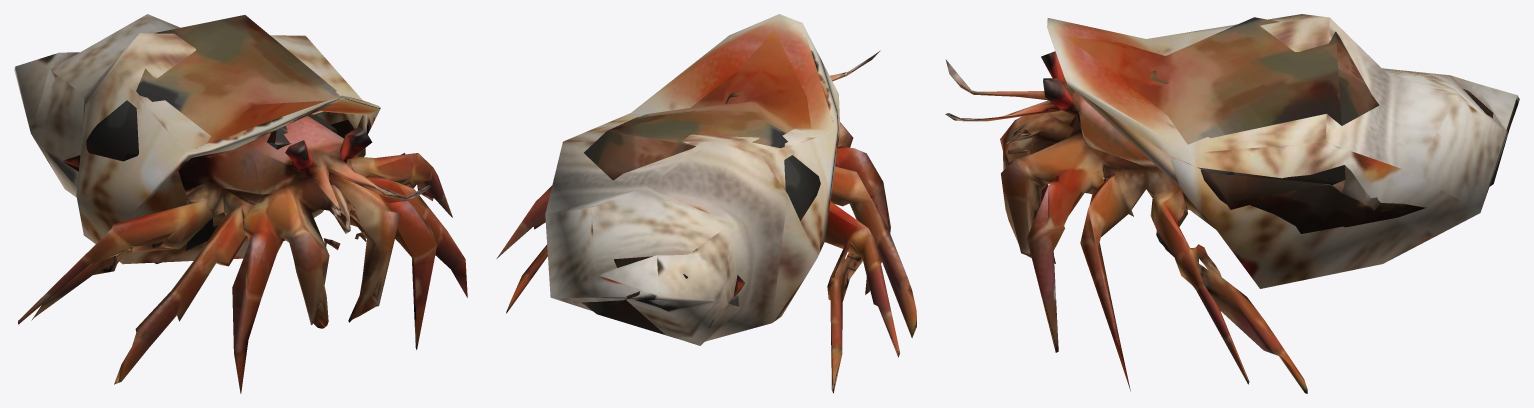
Rendered from hermit-crab_lo.glb.
3 views of the same model, side by side, from view 1: azimuth 30°, elevation 25°; view 2: azimuth 150°, elevation 25°; view 3: azimuth 270°, elevation 25° (orthographic). The views are drawn at different scales.
Visible parts, largest first — view 1: geometry_0; view 2: geometry_0; view 3: geometry_0.
Boxes of the visible parts, left/top/right/bottom form: geometry_0: left=14, top=14, right=467, bottom=393; geometry_0: left=496, top=14, right=916, bottom=393; geometry_0: left=945, top=14, right=1519, bottom=393.
Bounding box in the file's own units: 0.8879 × 0.5397 × 0.983.
1 material, 1 textured.
